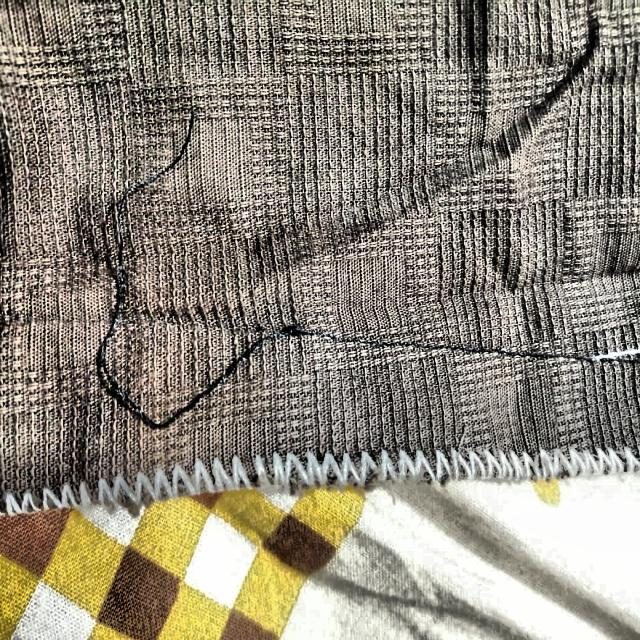Stitch: (97, 106, 294, 430)
